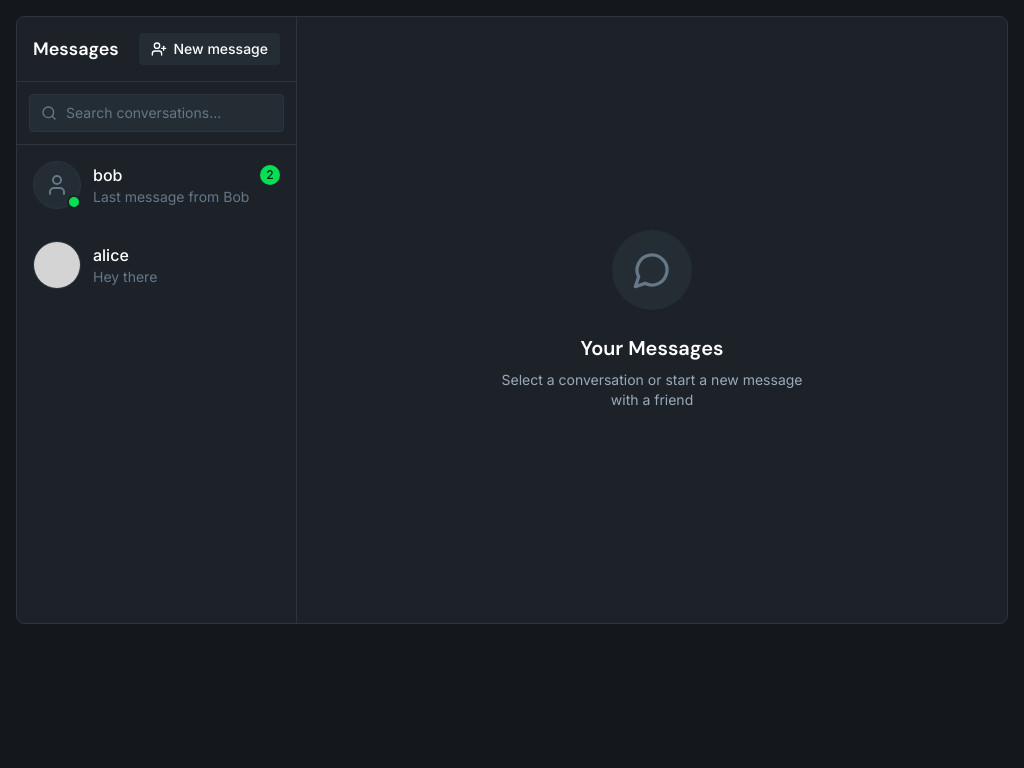
it: DiscussionPage › affiche le statut online et typing du partenaire
The image size is (1024, 768).
Click the button "bob 2 Last message from Bob" at (156, 185), box x1=17 y1=145 x2=296 y2=225
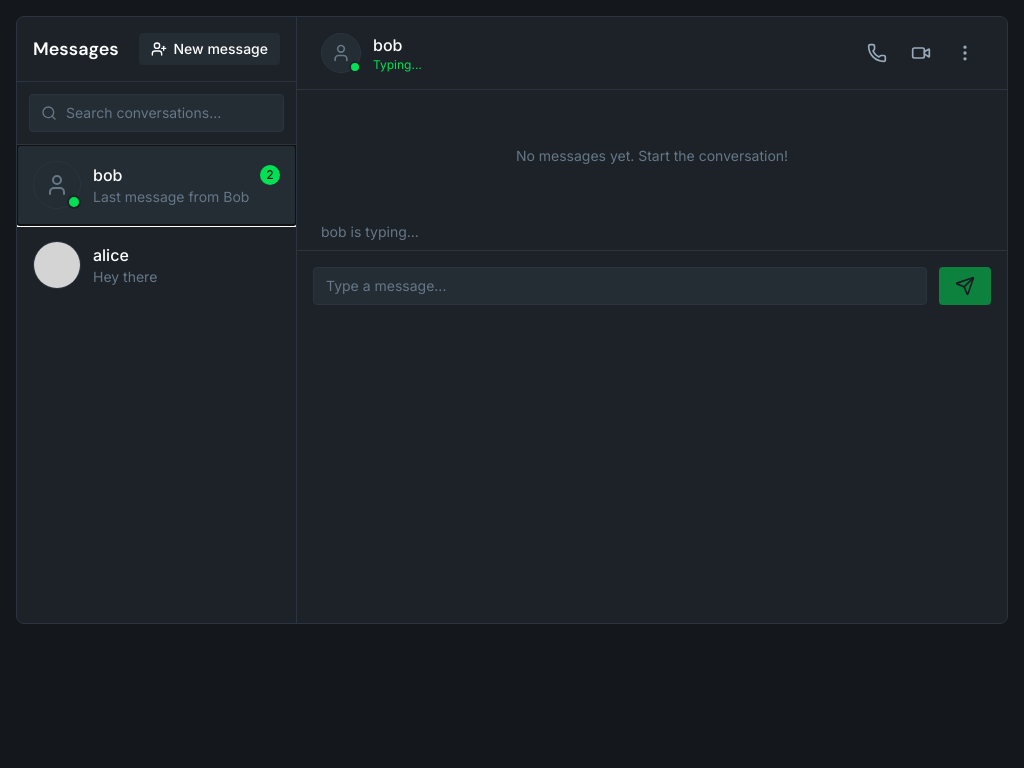
Expected: the text "Typing..." is shown 2 times, x1=373 y1=57 x2=422 y2=73; x1=321 y1=223 x2=419 y2=240
Expected: the text "bob is typing..." is shown, x1=321 y1=223 x2=419 y2=240
